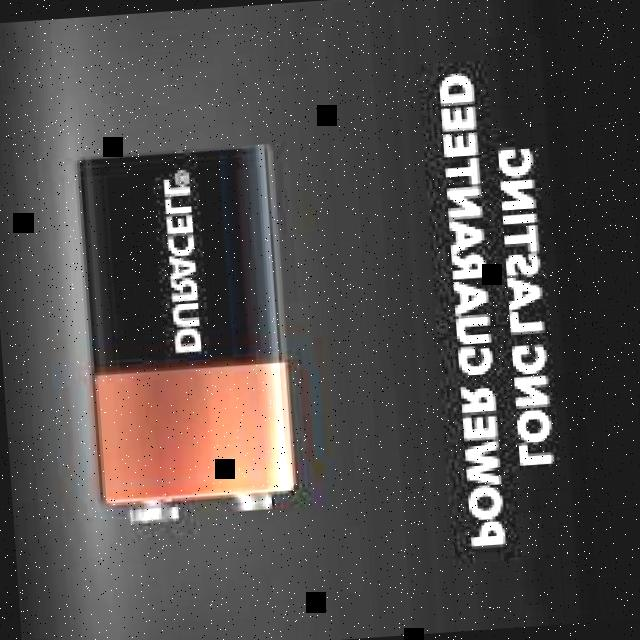battery: (78, 144, 293, 521)
